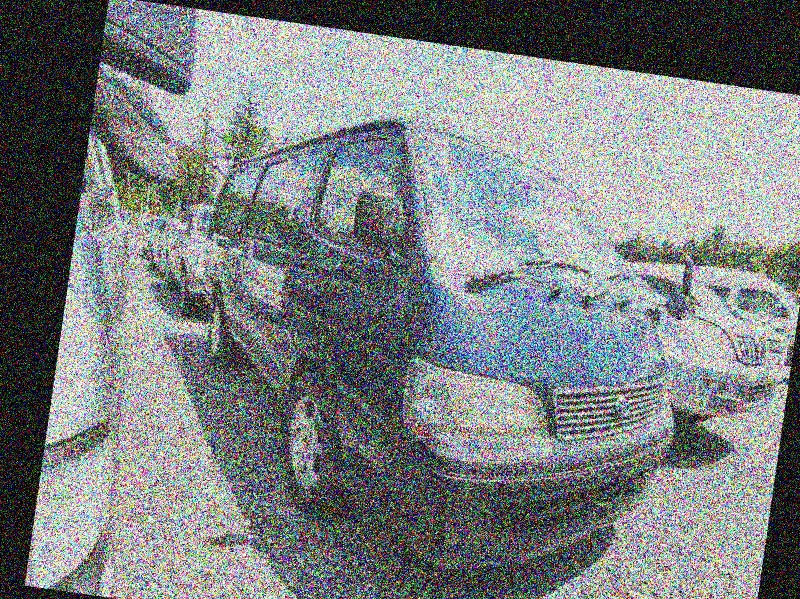van: (164, 92, 720, 599)
